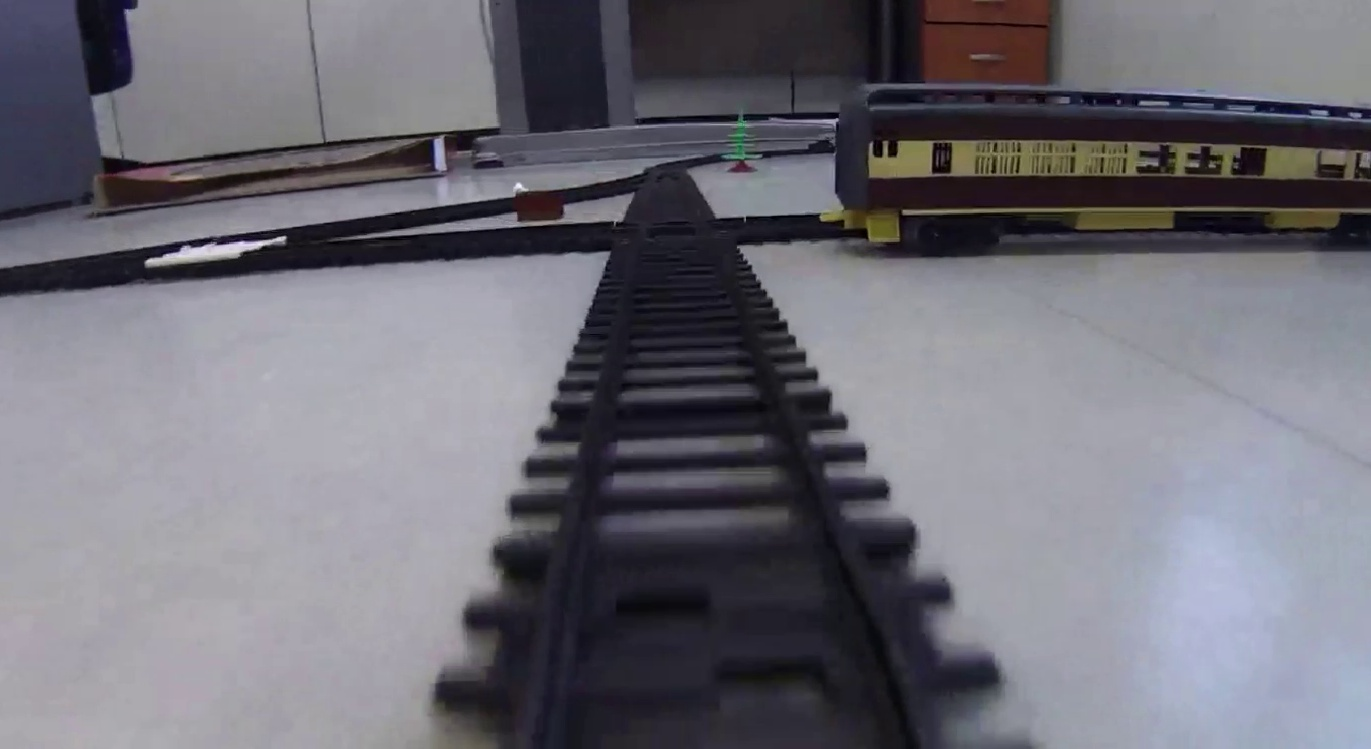box: (514, 190, 569, 219)
tree: (720, 108, 764, 175)
